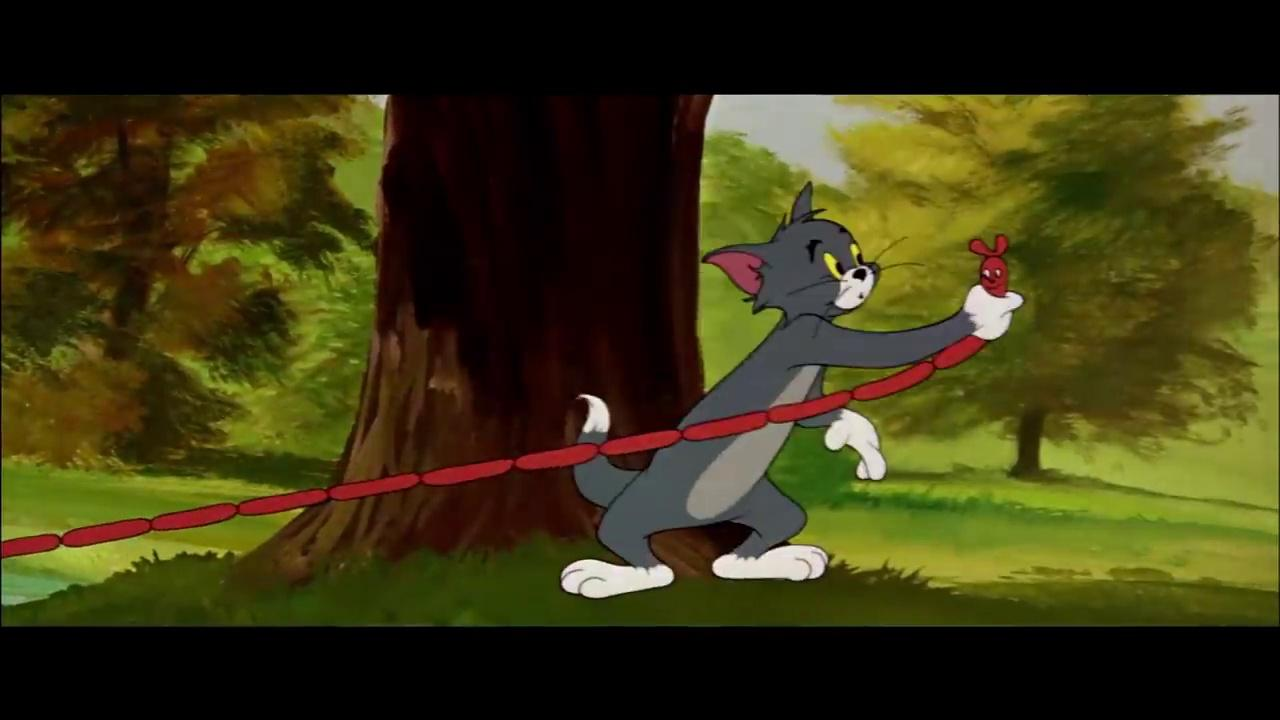Tom: (560, 178, 1026, 600)
